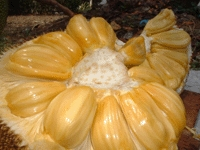jackfruit: (2, 7, 193, 149)
